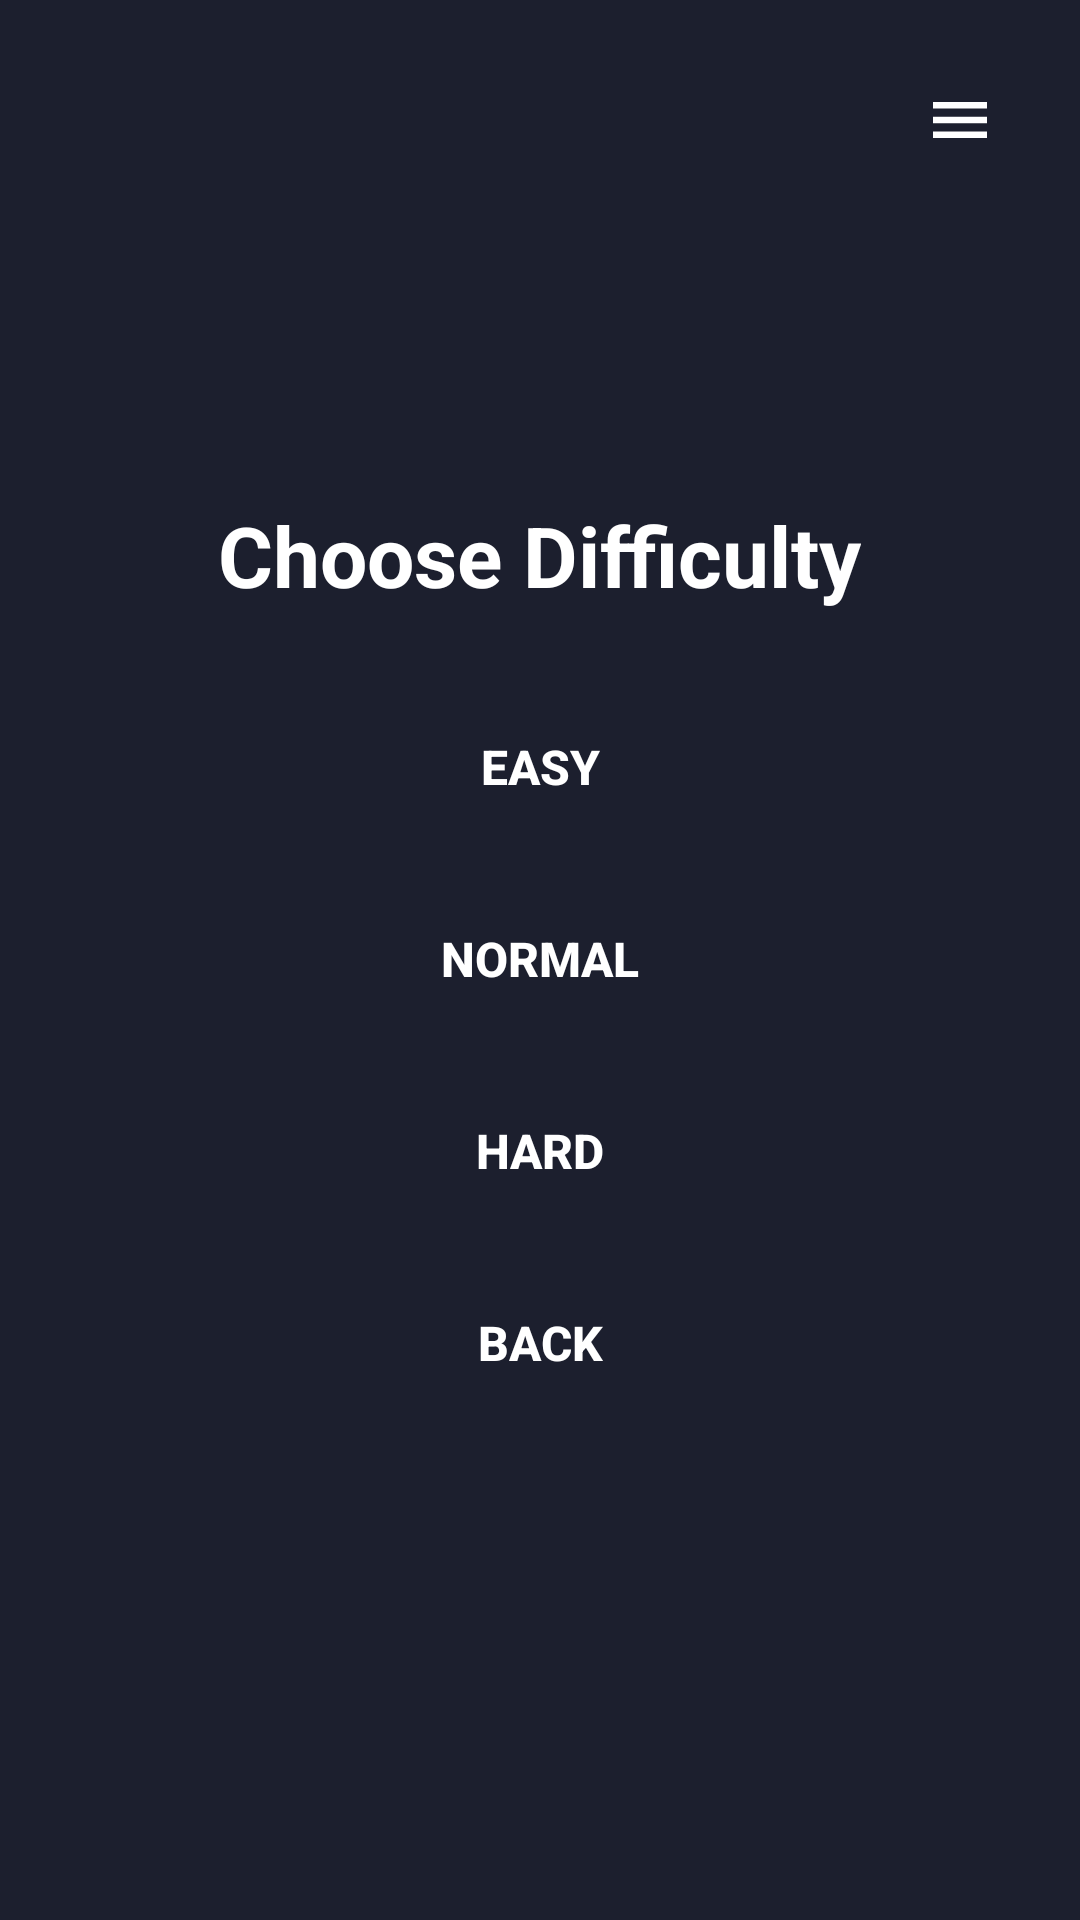

Where icons sit on this 1080 x 1920 app screen, as (x1, y1, x2, y2):
Open menu: (933, 102, 987, 138)
